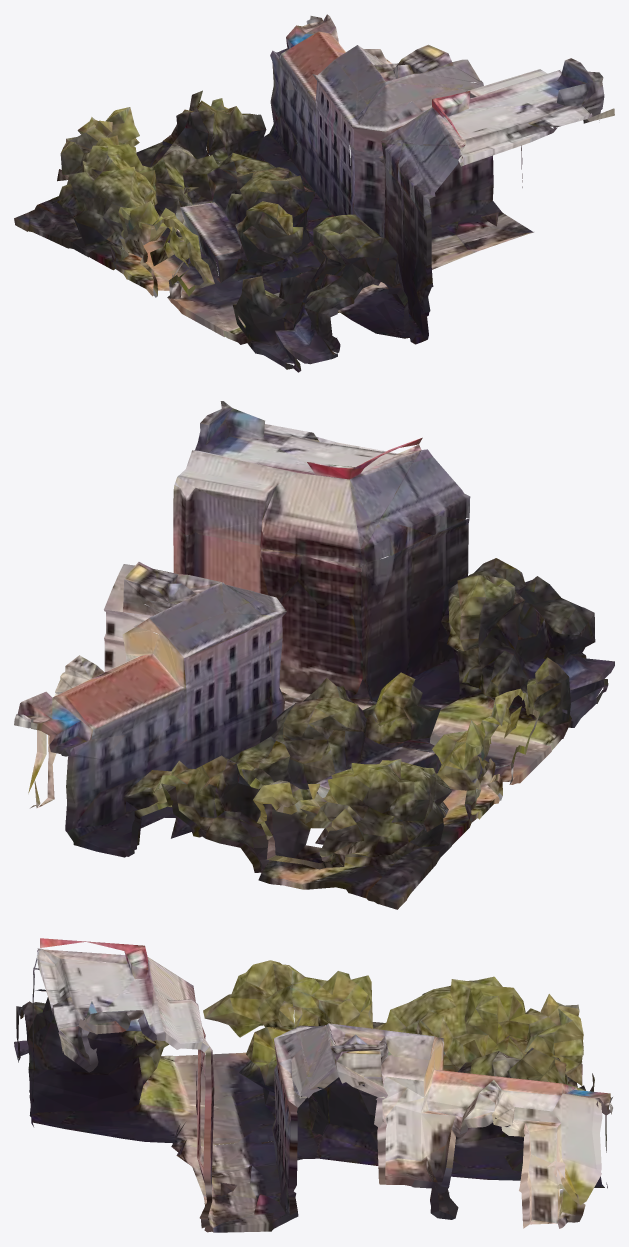
3 renders of one model, top to bottom at view 1: azimuth 30°, elevation 25°; view 2: azimuth 150°, elevation 25°; view 3: azimuth 270°, elevation 25°, orthographic. The views are drawn at different scales.
Visible parts, largest first — view 1: Mesh_0; view 2: Mesh_0; view 3: Mesh_0.
Part boxes in pixels (<box>): Mesh_0: <box>14,14,614,372</box>; Mesh_0: <box>14,401,614,909</box>; Mesh_0: <box>14,938,612,1232</box>.
Bounding box in the file's own units: 66.59 × 36.76 × 82.69.
Materials: 1 (1 with a texture image).
